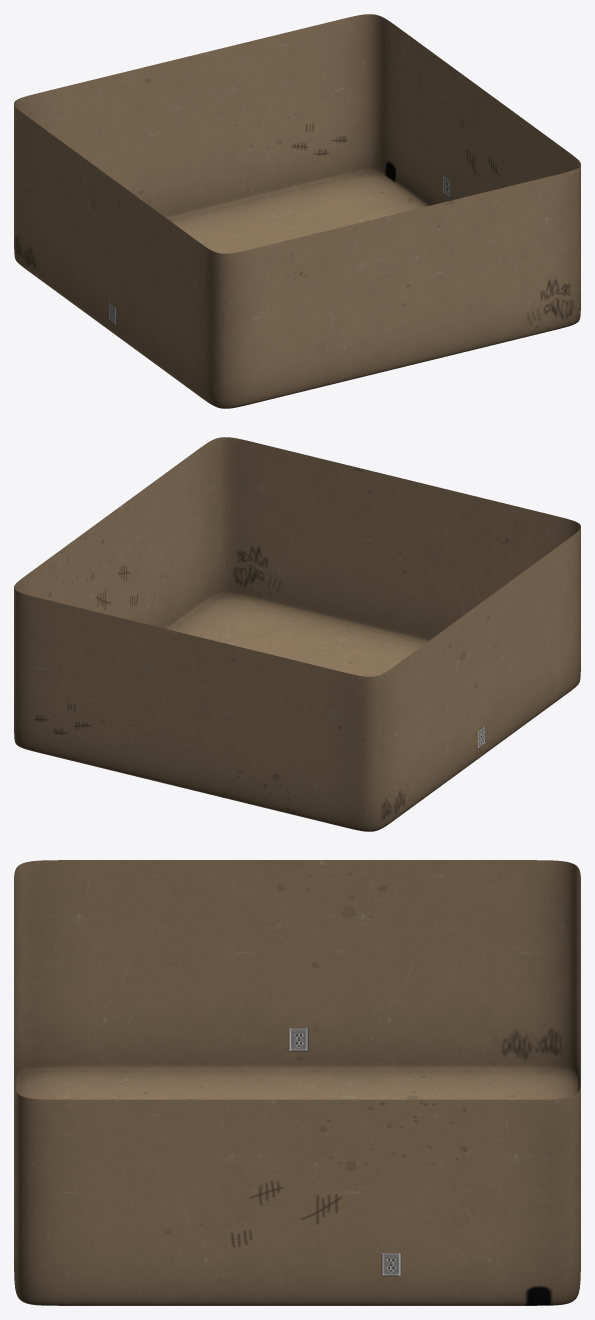
File: Liminal_Room.glb
The picture shows the model from 3 angles, top to bottom: view 1: azimuth 30°, elevation 25°; view 2: azimuth 150°, elevation 25°; view 3: azimuth 270°, elevation 25°; orthographic projection. The views are drawn at different scales.
Visible parts, largest first — view 1: Liminal_Room; view 2: Liminal_Room; view 3: Liminal_Room.
Boxes of the visible parts, x1,y1,x2,y2 form: Liminal_Room: (14,14,580,408); Liminal_Room: (14,437,580,831); Liminal_Room: (14,860,580,1305).
Bounding box in the file's own units: 50 × 20.38 × 50.
Materials: 1 (1 with a texture image).
